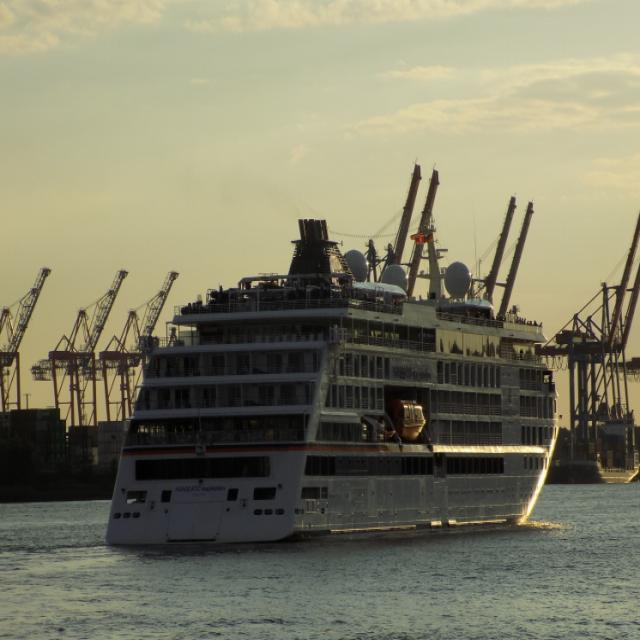cruises: (102, 211, 563, 549)
